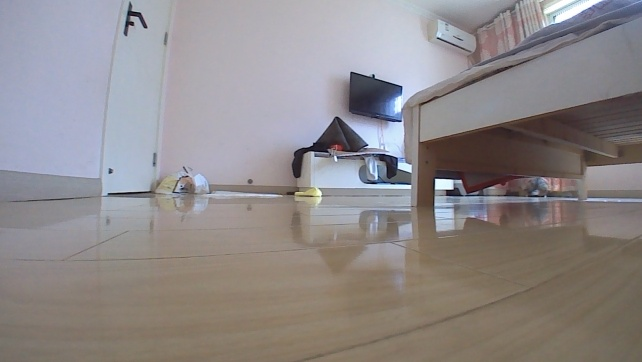TV_stand: (290, 145, 456, 197)
bed1: (395, 0, 641, 213)
door_anno: (98, 0, 174, 196)
